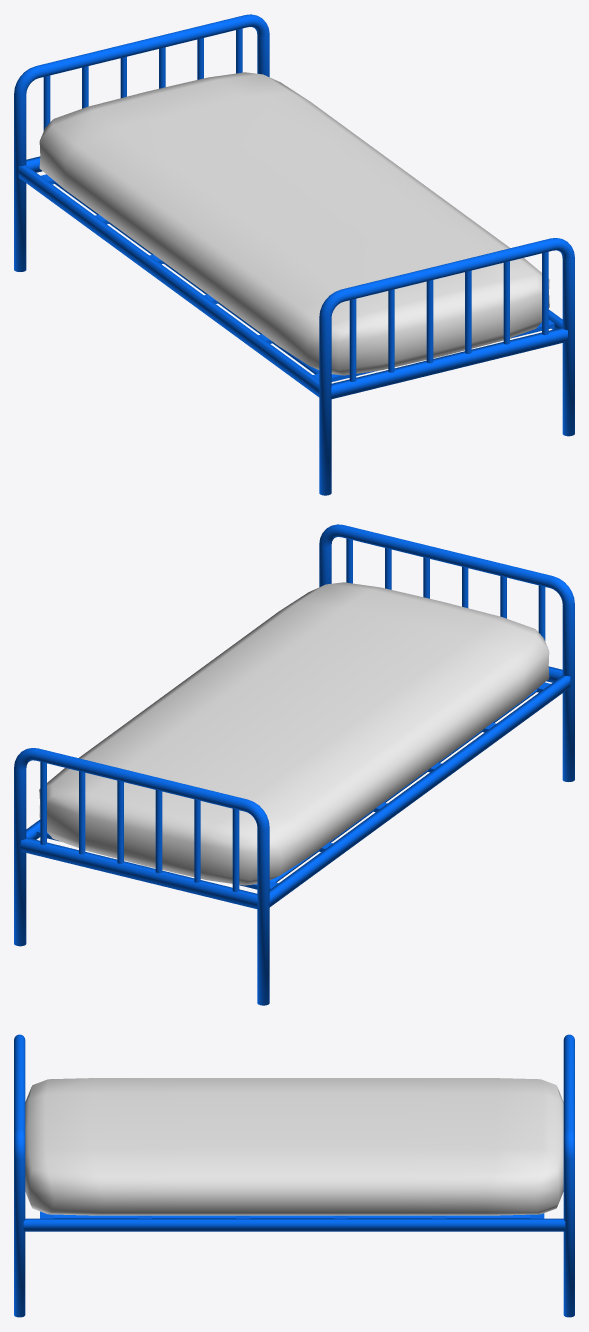
File: Cama.fbx
3 views of the same model, one above another, from view 1: azimuth 30°, elevation 25°; view 2: azimuth 150°, elevation 25°; view 3: azimuth 270°, elevation 25° (orthographic). The views are drawn at different scales.
Visible parts, largest first — view 1: Cama; view 2: Cama; view 3: Cama.
Boxes of the visible parts, x1,y1,x2,y2 form: Cama: (14, 14, 574, 495); Cama: (14, 524, 574, 1005); Cama: (14, 1034, 574, 1317).
Size of the model in its own units: 159 by 119 by 338.
